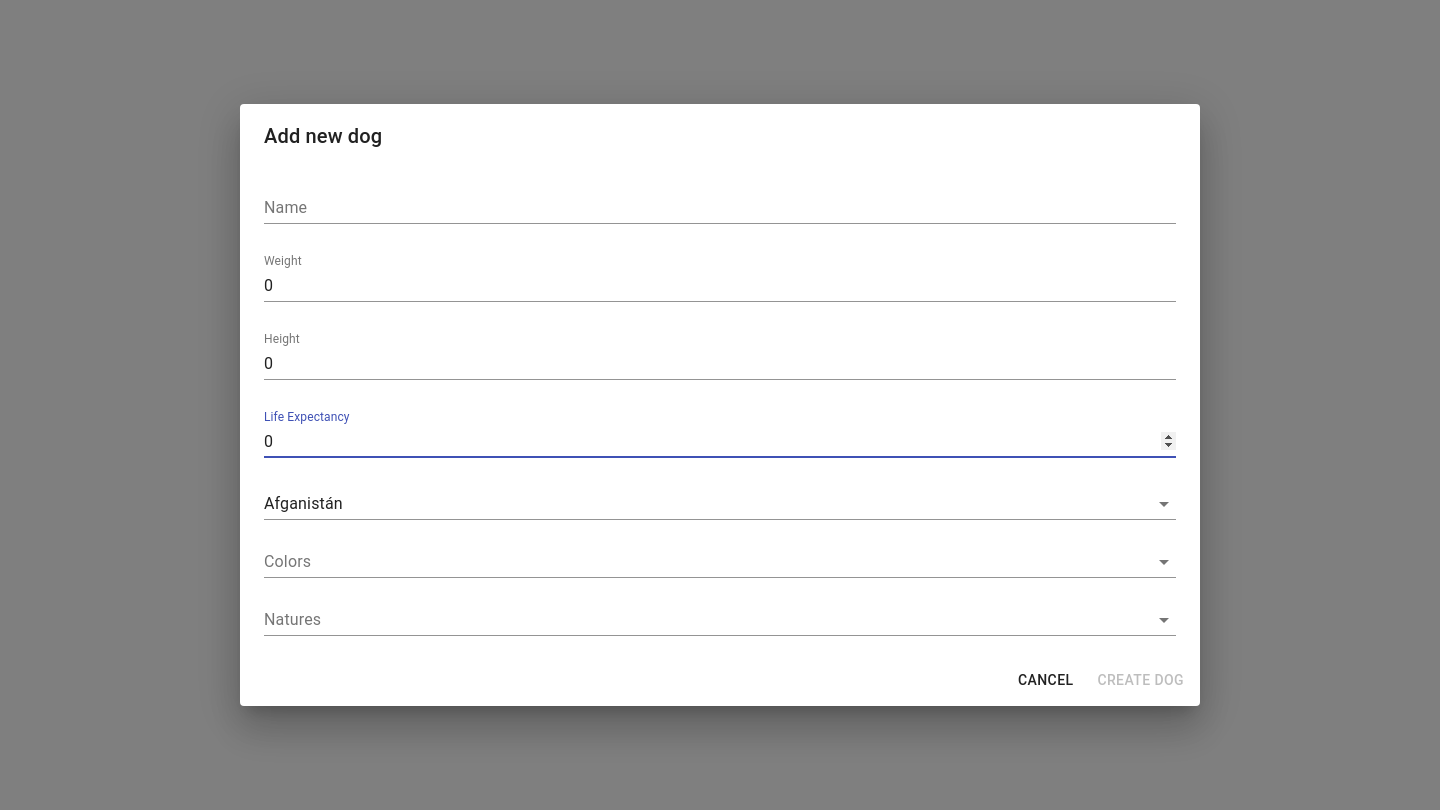
Test: Error cases, field validations Add Dialog Form › Should show error message when name is removed
The width and height of the screenshot is (1440, 810).
Type "Siberian Husky" into the field with test id "e2e-breed-dog-name-input" at [720, 208], box x1=264 y1=192 x2=1176 y2=224
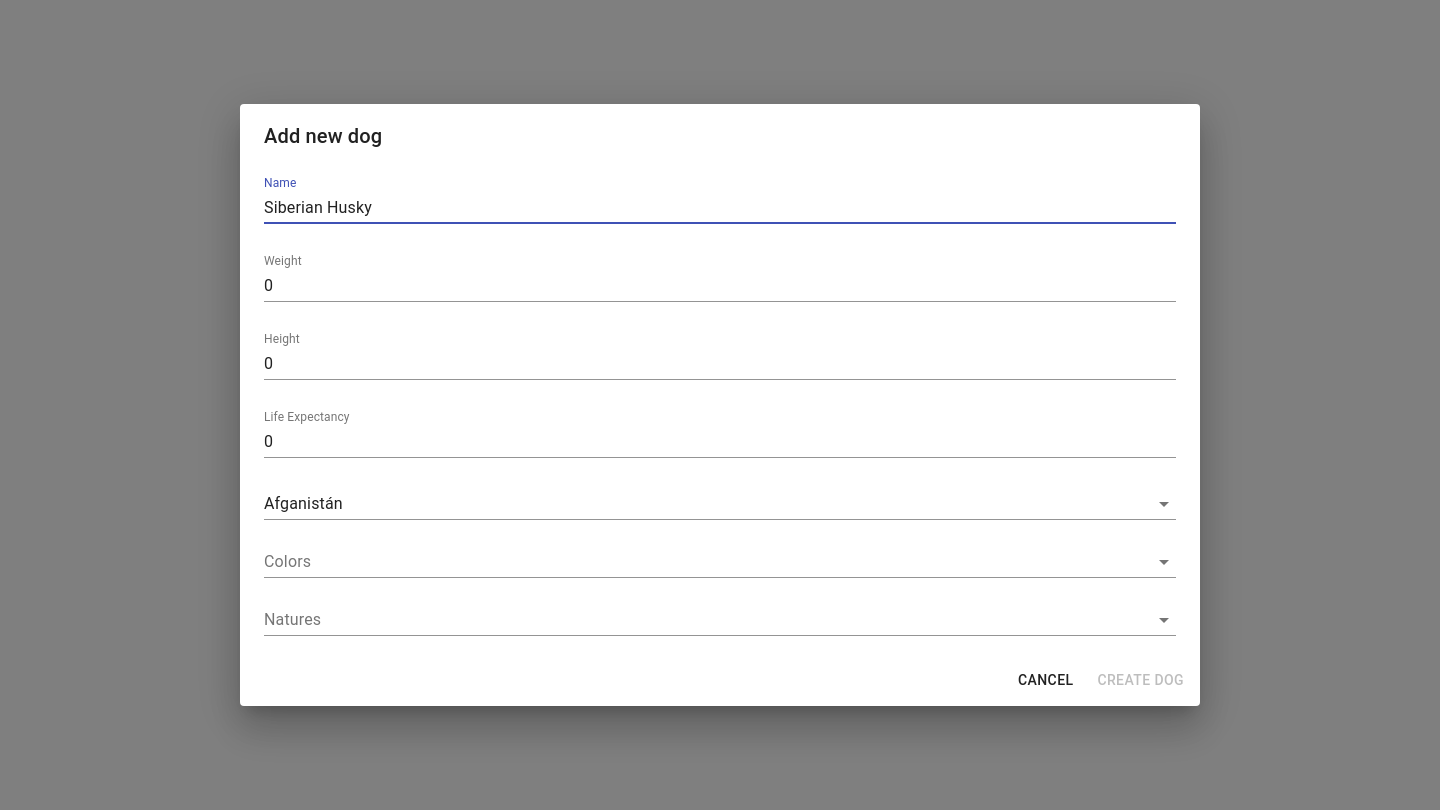
Clear the field with test id "e2e-breed-dog-name-input" at [720, 208], box x1=264 y1=192 x2=1176 y2=224
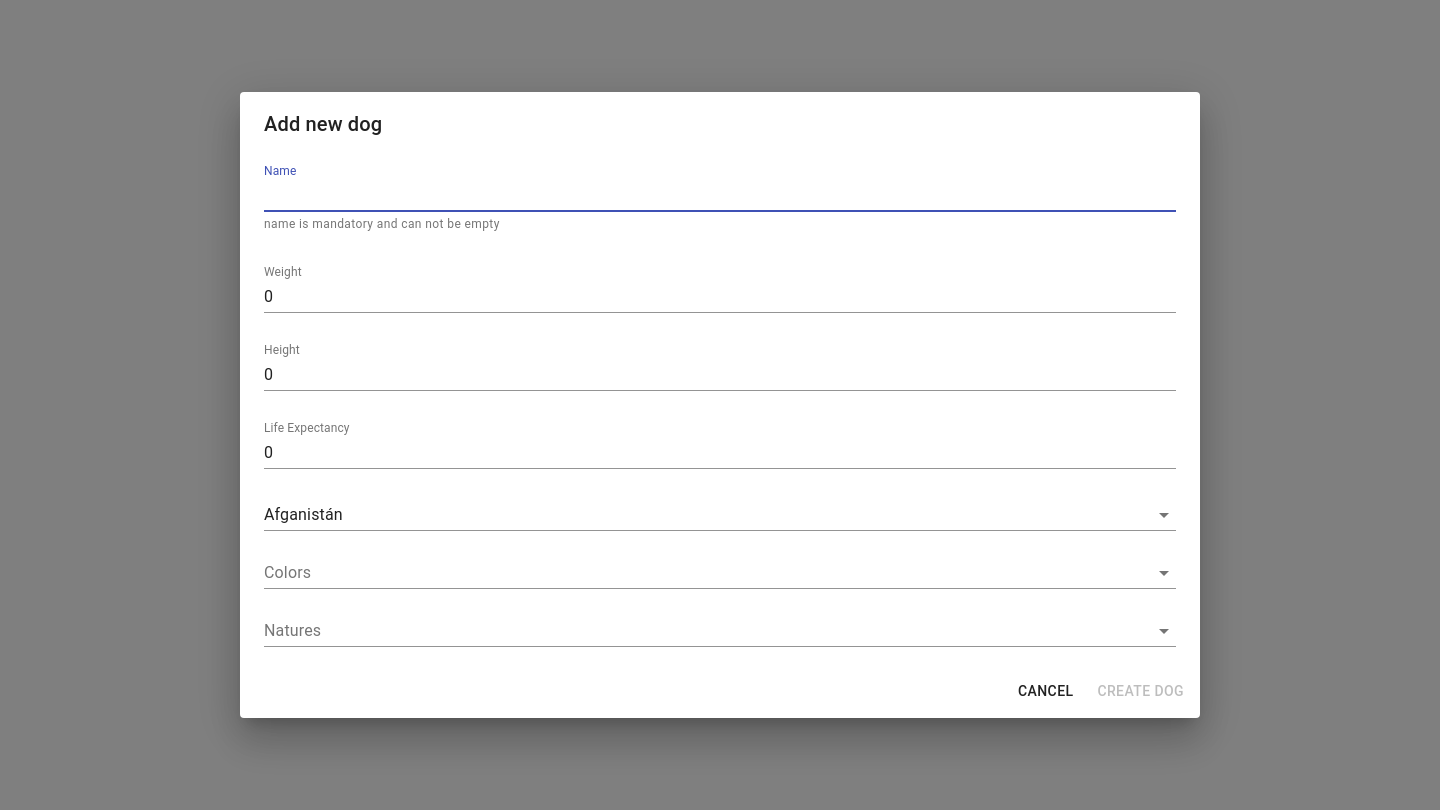
Now the text "name is mandatory and can not be empty" is shown, box x1=264 y1=217 x2=500 y2=231
Type "Siberian Husky" into the field with test id "e2e-breed-dog-name-input" at [720, 196], box x1=264 y1=180 x2=1176 y2=212
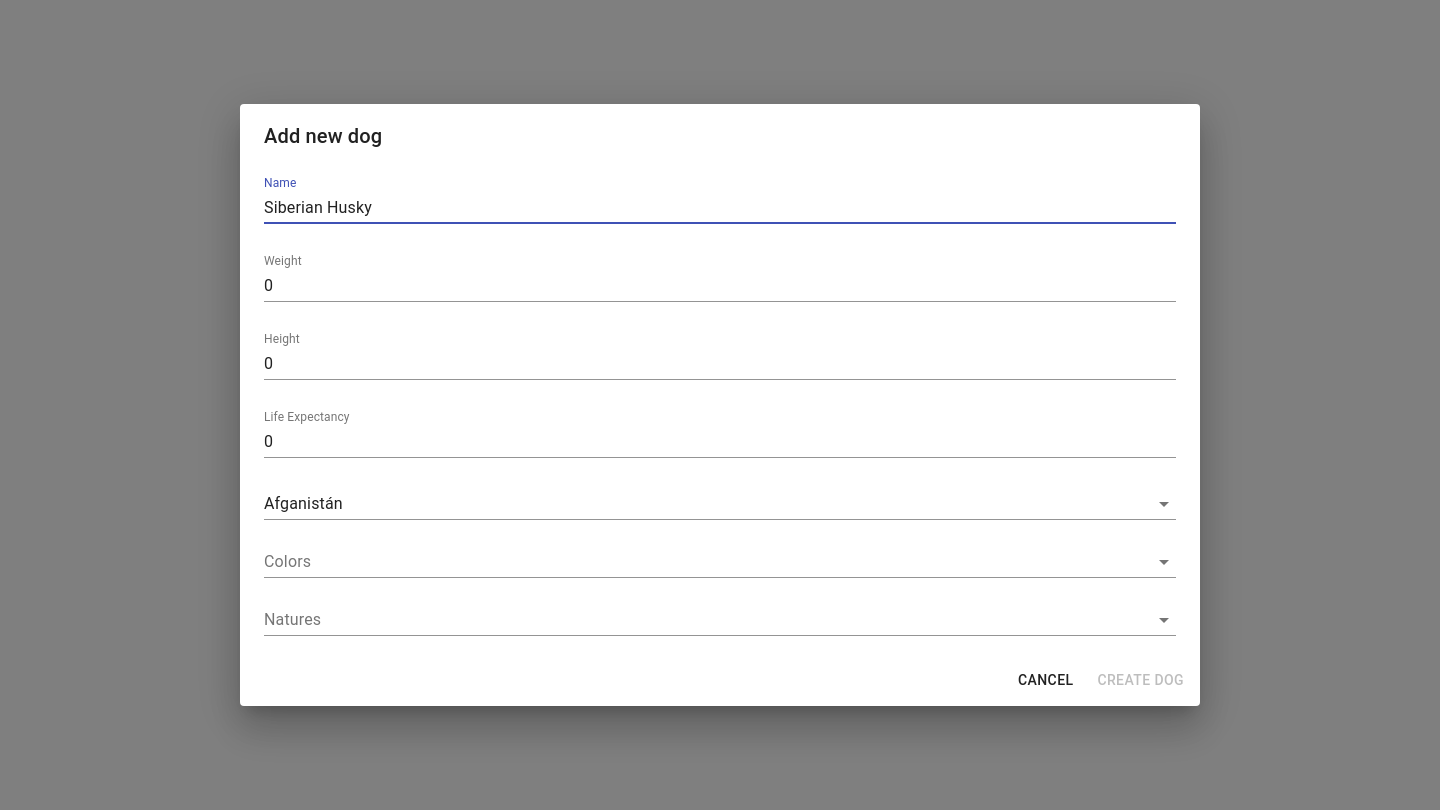
Now the text "name is mandatory and can not be empty" is gone
